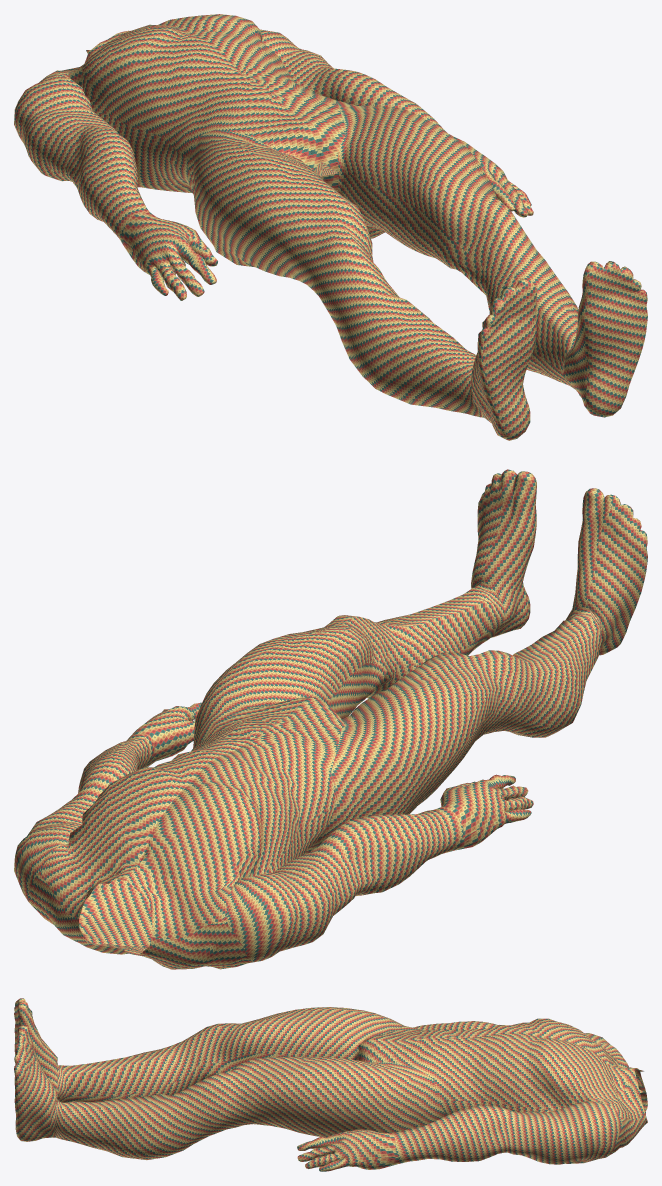
Rendered from human body unwrapped v1001.fbx.
3 renders of one model, top to bottom at view 1: azimuth 30°, elevation 25°; view 2: azimuth 150°, elevation 25°; view 3: azimuth 270°, elevation 25°, orthographic. The views are drawn at different scales.
Parts seen in each view (by area): view 1: polySurface384, polySurface380; view 2: polySurface384, polySurface380; view 3: polySurface380, polySurface384.
Part boxes in pixels (x1=…): polySurface384: x1=14, y1=24, x2=536, y2=440; polySurface380: x1=124, y1=14, x2=647, y2=417; polySurface384: x1=116, y1=488, x2=647, y2=969; polySurface380: x1=14, y1=469, x2=536, y2=954; polySurface380: x1=14, y1=1025, x2=647, y2=1171; polySurface384: x1=14, y1=998, x2=647, y2=1113.
Bounding box in the file's own units: 248 × 117 × 520.
Materials: 1 (1 with a texture image).
